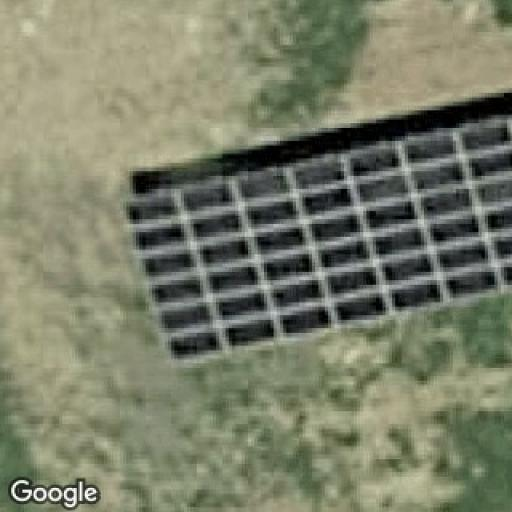solar-panel: (120, 118, 512, 372)
